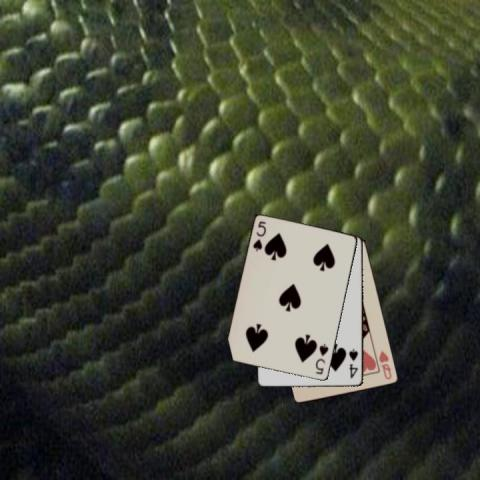4s: (346, 346, 359, 380)
5s: (313, 341, 330, 376), (250, 218, 267, 253)
Qh: (376, 347, 393, 381)
